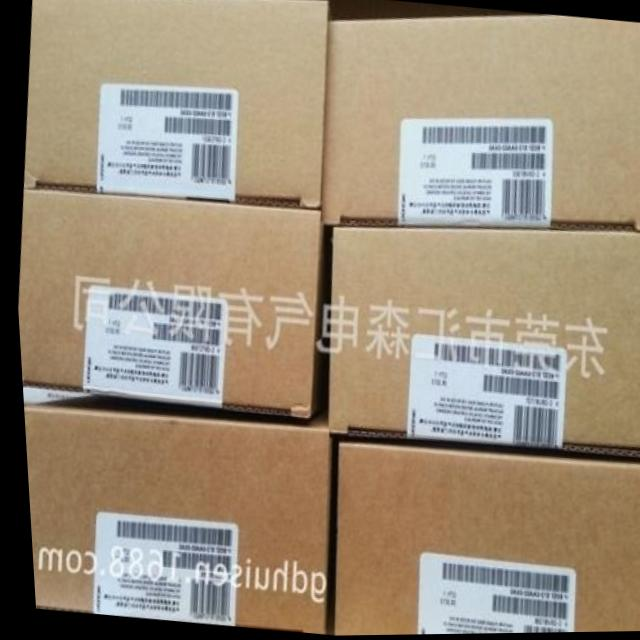box: (19, 394, 327, 635), (322, 228, 640, 458), (14, 189, 319, 417), (318, 18, 640, 233), (22, 0, 329, 208), (325, 443, 640, 636)
